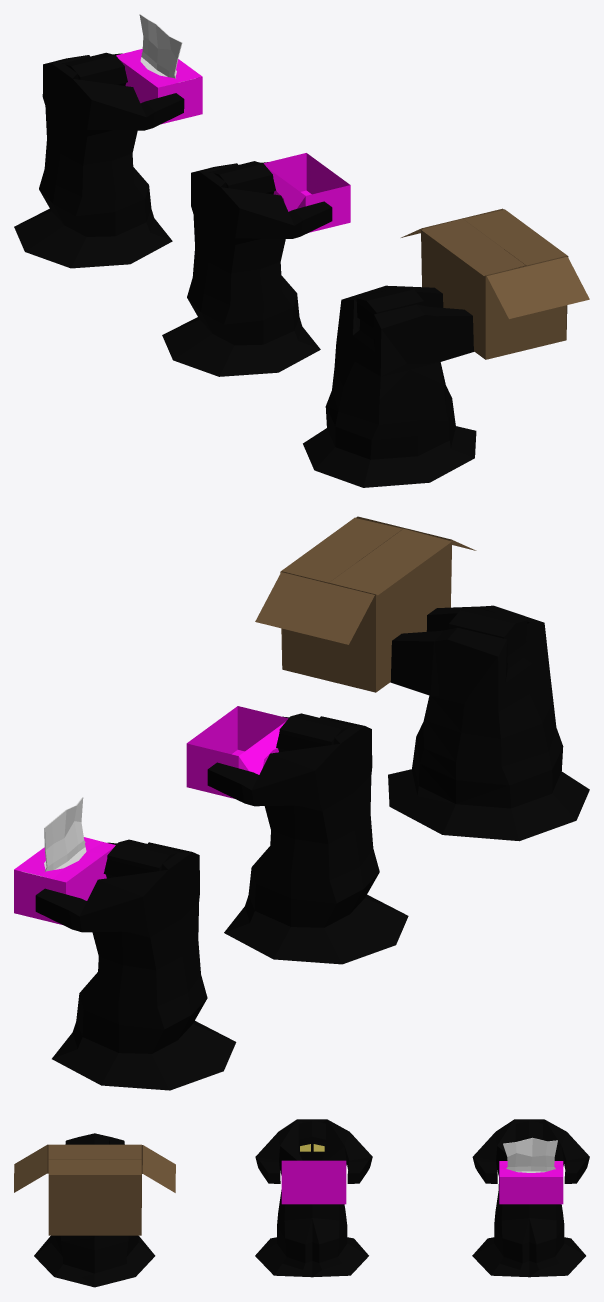
Rendered from PlayerHoldingBoxes.glb.
The picture shows the model from 3 angles, top to bottom: view 1: azimuth 30°, elevation 25°; view 2: azimuth 150°, elevation 25°; view 3: azimuth 270°, elevation 25°; orthographic projection. The views are drawn at different scales.
Visible parts, largest first — view 1: Form2HoldingBoxEmpty, Form3HoldingTissueBoxFull, Form3HoldingTissueBoxEmpty; view 2: Form2HoldingBoxEmpty, Form3HoldingTissueBoxFull, Form3HoldingTissueBoxEmpty; view 3: Form2HoldingBoxEmpty, Form3HoldingTissueBoxEmpty, Form3HoldingTissueBoxFull.
Part boxes in pixels (bbox=[...]): Form2HoldingBoxEmpty: bbox=[303, 208, 589, 487]; Form3HoldingTissueBoxFull: bbox=[14, 14, 202, 268]; Form3HoldingTissueBoxEmpty: bbox=[162, 153, 350, 376]; Form2HoldingBoxEmpty: bbox=[255, 516, 589, 841]; Form3HoldingTissueBoxFull: bbox=[14, 797, 236, 1090]; Form3HoldingTissueBoxEmpty: bbox=[186, 706, 408, 964]; Form2HoldingBoxEmpty: bbox=[14, 1133, 175, 1287]; Form3HoldingTissueBoxEmpty: bbox=[255, 1119, 372, 1277]; Form3HoldingTissueBoxFull: bbox=[472, 1119, 589, 1277].
Size of the model in its own units: 1.75 by 1.45 by 5.34.
